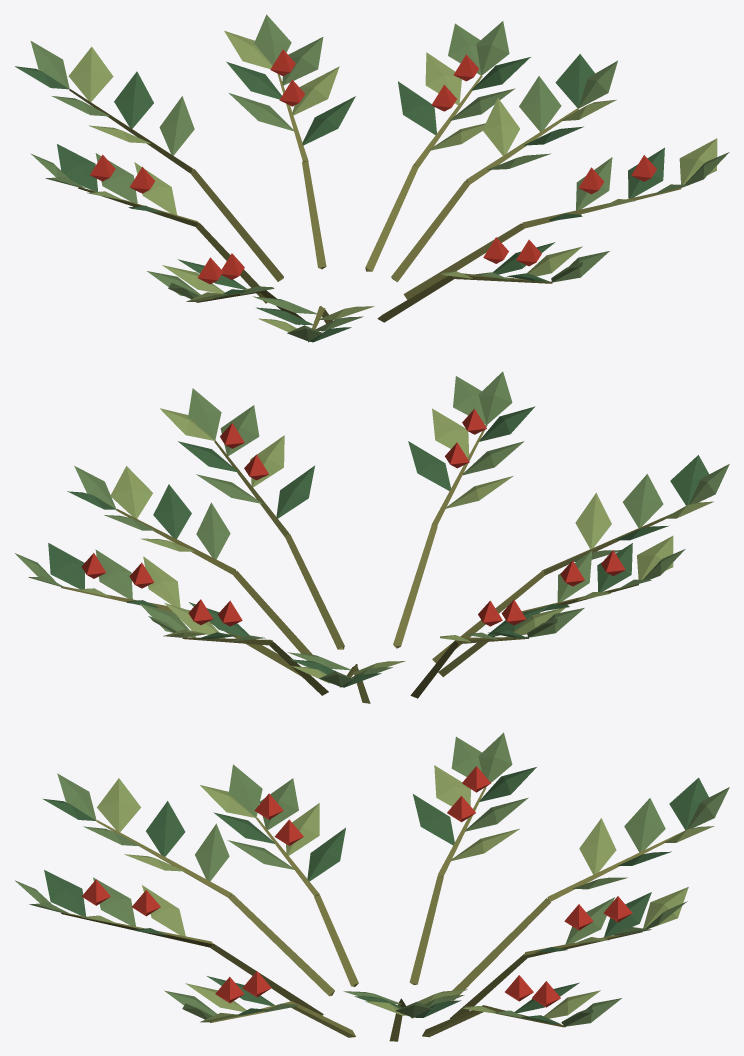
Rendered from w9b-lookout-bearberry.glb.
The picture shows the model from 3 angles, top to bottom: view 1: azimuth 30°, elevation 25°; view 2: azimuth 150°, elevation 25°; view 3: azimuth 270°, elevation 25°; orthographic projection. The views are drawn at different scales.
Visible parts, largest first — view 1: Rock lookout trailing bearberry; view 2: Rock lookout trailing bearberry; view 3: Rock lookout trailing bearberry.
Boxes of the visible parts, <box> form: Rock lookout trailing bearberry: <box>15,14,729,342</box>; Rock lookout trailing bearberry: <box>15,371,729,703</box>; Rock lookout trailing bearberry: <box>15,732,729,1041</box>.
Bounding box in the file's own units: 1.02 × 0.2913 × 1.16.
